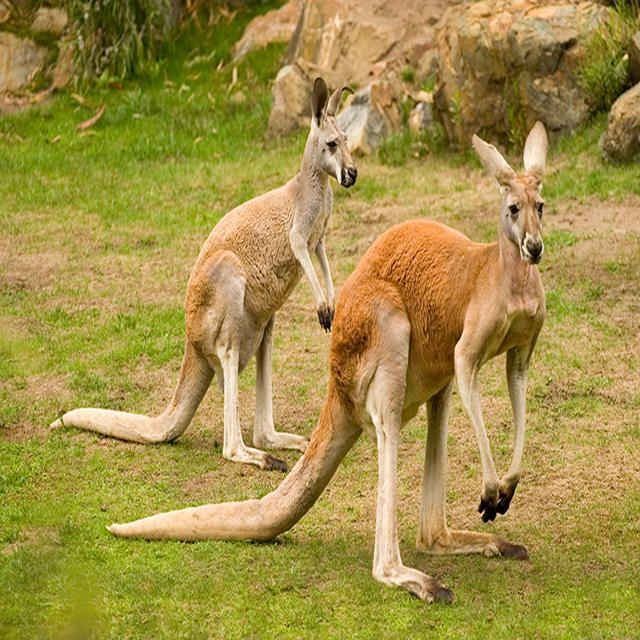kangaroo: (330, 128, 557, 602), (175, 82, 368, 466)
